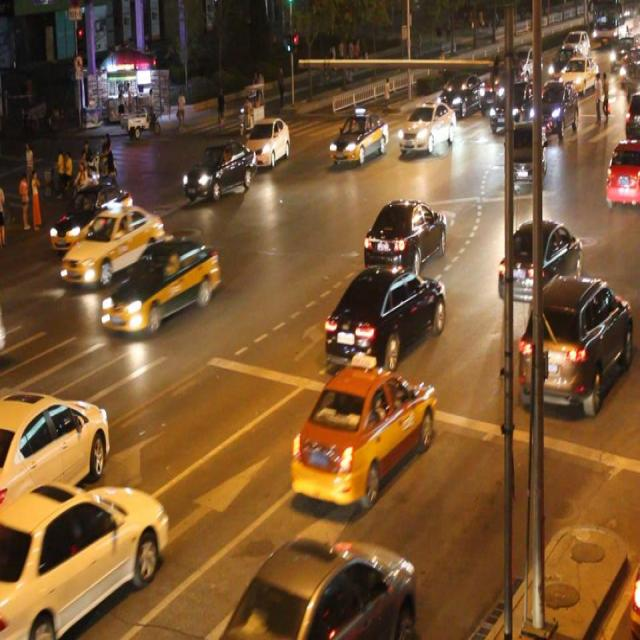car: (1, 480, 168, 640), (221, 535, 415, 640), (290, 362, 434, 503), (1, 388, 110, 544), (520, 272, 631, 412), (324, 264, 443, 362), (103, 238, 217, 331), (60, 205, 164, 282), (498, 219, 580, 305), (361, 196, 447, 272), (50, 187, 134, 255), (182, 141, 256, 200), (396, 101, 455, 155), (328, 112, 386, 162), (604, 140, 640, 204), (244, 118, 289, 168), (508, 122, 544, 180)
